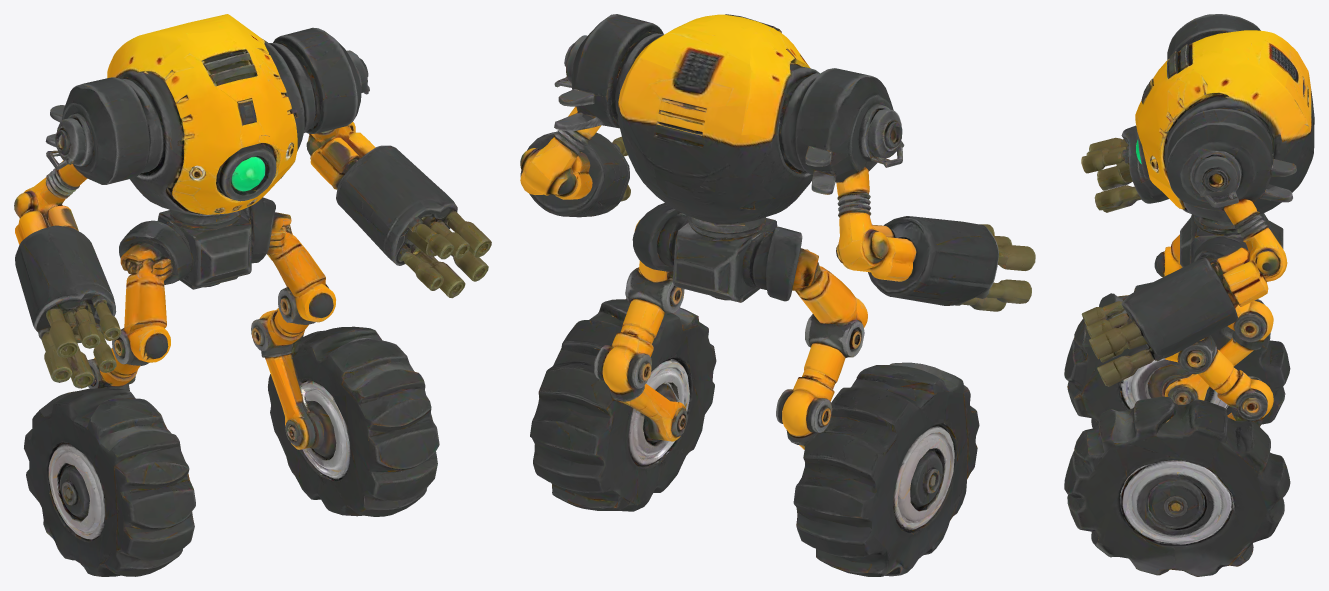
Rendered from veh-monowheel-mech.glb.
3 views of the same model, side by side, from view 1: azimuth 30°, elevation 25°; view 2: azimuth 150°, elevation 25°; view 3: azimuth 270°, elevation 25° (orthographic). The views are drawn at different scales.
Parts seen in each view (by area): view 1: Mesh_0; view 2: Mesh_0; view 3: Mesh_0.
Part boxes in pixels (bbox=[...]): Mesh_0: bbox=[14, 14, 491, 576]; Mesh_0: bbox=[520, 14, 1035, 576]; Mesh_0: bbox=[1064, 14, 1314, 576].
Size of the model in its own units: 1.79 by 1.9 by 0.9223.
1 material, 1 textured.
